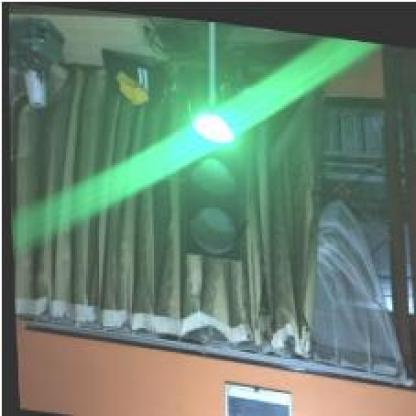green: (172, 98, 246, 258)
